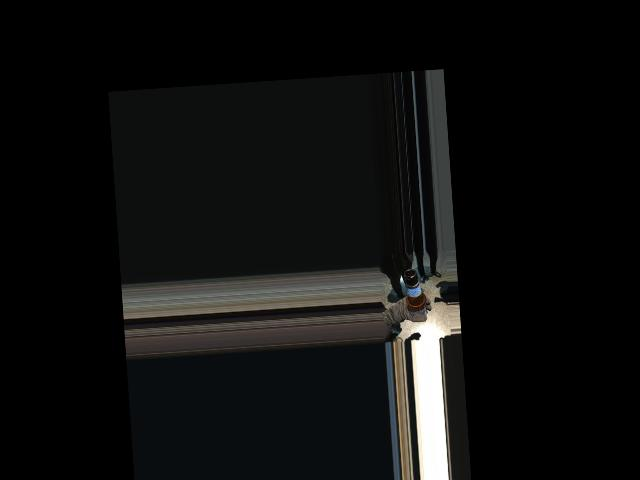beer: (403, 268, 428, 319)
